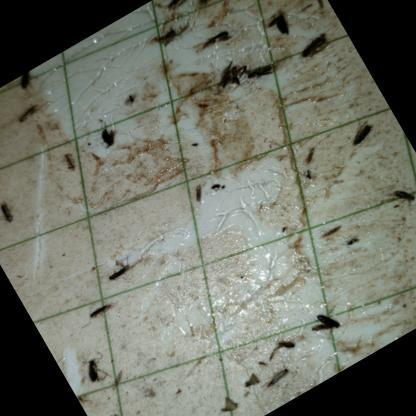prays_oleae: (69, 338, 121, 400), (301, 298, 357, 354), (93, 242, 144, 294), (83, 287, 131, 332), (379, 171, 416, 221), (344, 116, 382, 150), (12, 98, 48, 130), (93, 119, 124, 154), (9, 67, 43, 94), (0, 195, 22, 228)
